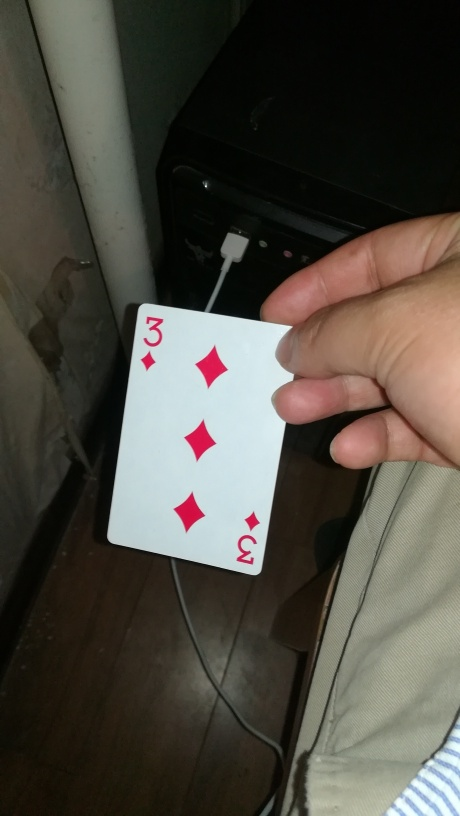fk 3: (101, 297, 298, 580)
